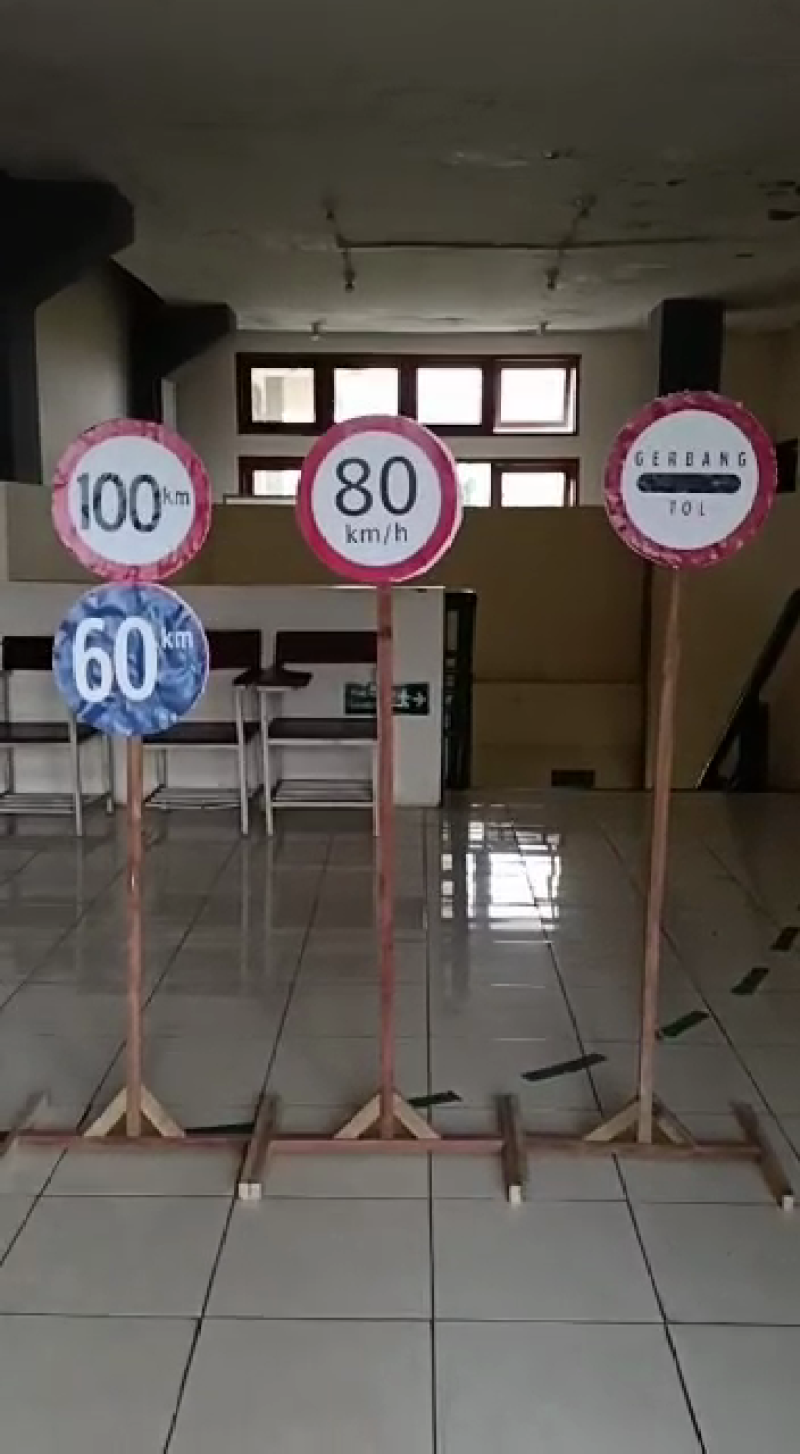batas maksimal 100kmperjam minimal 60kmperjam: (46, 407, 211, 740)
batas maksimal 80kmperjam: (285, 394, 466, 592)
gerbang tol: (589, 381, 774, 587)
